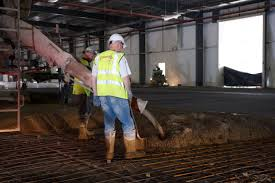hard hat: (106, 32, 126, 48)
safe person: (91, 32, 151, 160)
